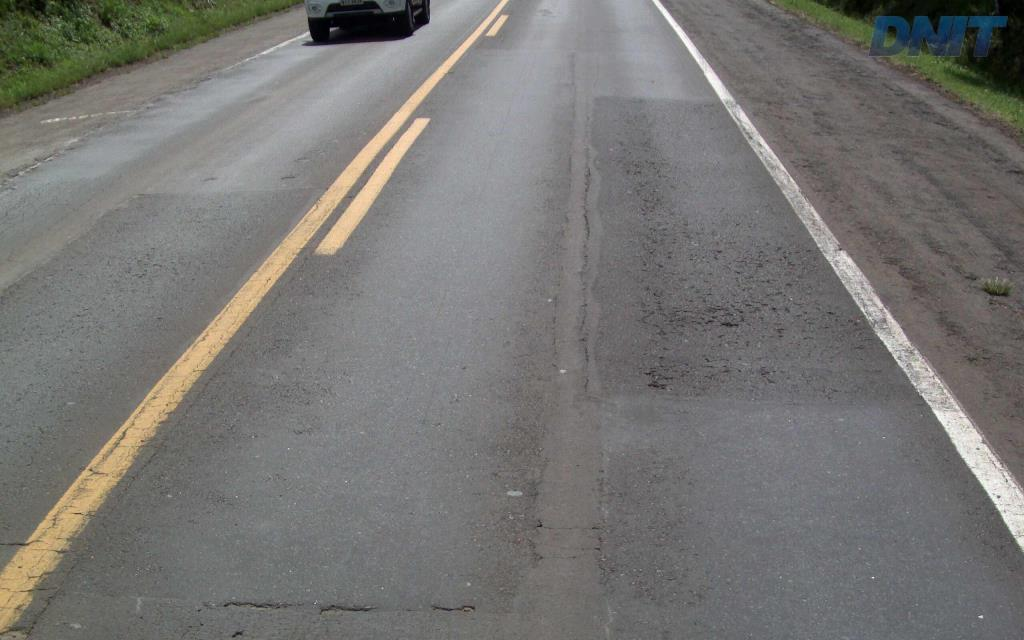crack: (632, 285, 771, 390), (820, 311, 885, 361)
